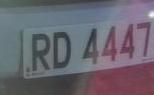4: (80, 23, 103, 71), (117, 19, 139, 66), (100, 21, 121, 68)
7: (134, 17, 154, 64)
D: (51, 29, 75, 73)
R: (28, 30, 53, 75)
